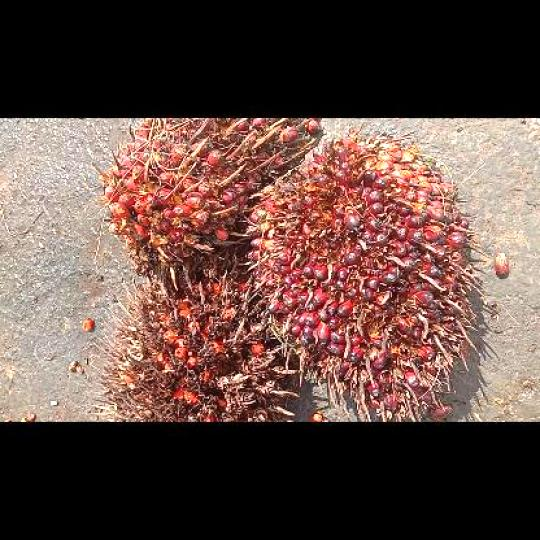masak: (245, 123, 485, 420), (95, 118, 315, 290)
terlalu masak: (89, 270, 300, 421)
